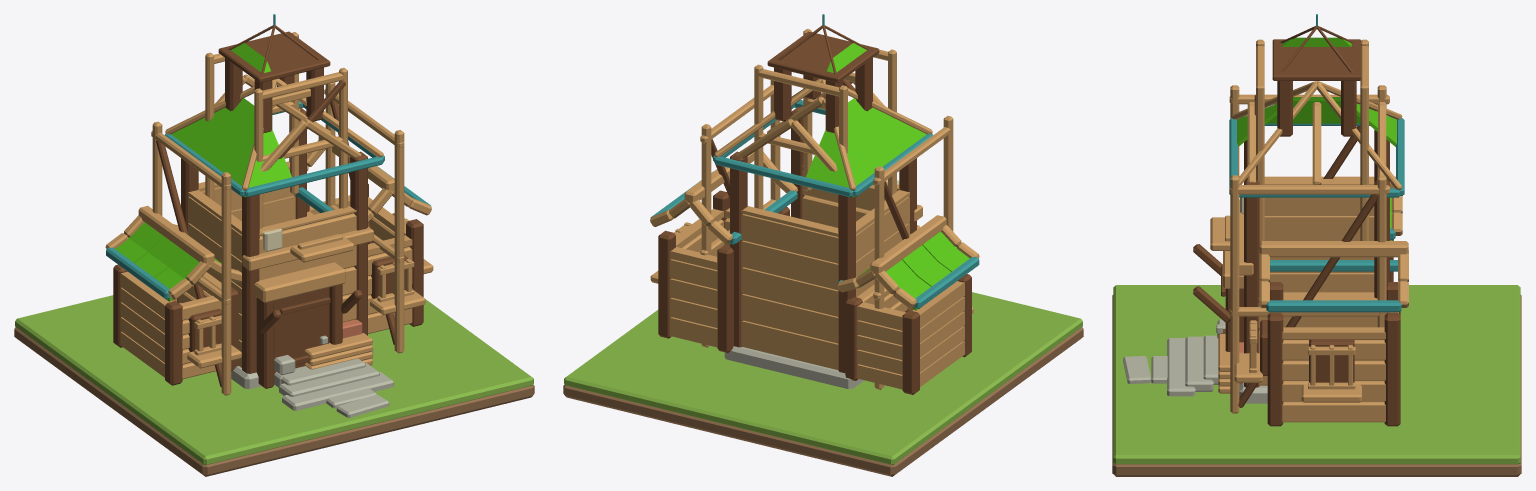
Rendered from town_hall_l05_construction_LOD0.glb.
3 renders of one model, left to right at view 1: azimuth 30°, elevation 25°; view 2: azimuth 150°, elevation 25°; view 3: azimuth 270°, elevation 25°, orthographic. The views are drawn at different scales.
Parts seen in each view (by area): view 1: town_hall_l05_construction_grass_tile, town_hall_l05_construction_earth_tile, town_hall_l05_construction_door_recess, town_hall_l05_construction_central_spire_cornice, town_hall_l05_construction_corner_reinforcement, town_hall_l05_construction_scaffold_post, town_hall_l05_construction_hip_roof_shingle.011, town_hall_l05_construction_scaffold_post.002, town_hall_l05_construction_door_lintel, town_hall_l05_construction_corner_reinforcement.002, town_hall_l05_construction_corner_reinforcement.004, town_hall_l05_construction_wall_siding.016 (+52 smaller); view 2: town_hall_l05_construction_grass_tile, town_hall_l05_construction_earth_tile, town_hall_l05_construction_central_spire_cornice, town_hall_l05_construction_wall_siding.017, town_hall_l05_construction_wall_siding.005, town_hall_l05_construction_wall_siding.009, town_hall_l05_construction_wall_siding.001, town_hall_l05_construction_wall_siding.013, town_hall_l05_construction_hip_roof_shingle.011, town_hall_l05_construction_corner_reinforcement.001, town_hall_l05_construction_foundation, town_hall_l05_construction_corner_reinforcement.003 (+52 smaller); view 3: town_hall_l05_construction_grass_tile, town_hall_l05_construction_earth_tile, town_hall_l05_construction_central_spire_cornice, town_hall_l05_construction_ridge_cap.005, town_hall_l05_construction_wall_siding.014, town_hall_l05_construction_scaffold_post.002, town_hall_l05_construction_annex_wall.023, town_hall_l05_construction_corner_reinforcement.002, town_hall_l05_construction_wall_siding.018, town_hall_l05_construction_corner_reinforcement.010, town_hall_l05_construction_corner_reinforcement.011, town_hall_l05_construction_wall_siding.006 (+44 smaller).
Part boxes in pixels (x1=…): town_hall_l05_construction_grass_tile: x1=15, y1=295, x2=533, y2=464; town_hall_l05_construction_earth_tile: x1=14, y1=327, x2=534, y2=476; town_hall_l05_construction_door_recess: x1=274, y1=287, x2=329, y2=373; town_hall_l05_construction_central_spire_cornice: x1=218, y1=31, x2=330, y2=82; town_hall_l05_construction_corner_reinforcement: x1=242, y1=194, x2=259, y2=373; town_hall_l05_construction_scaffold_post: x1=221, y1=172, x2=231, y2=395; town_hall_l05_construction_hip_roof_shingle.011: x1=171, y1=119, x2=250, y2=196; town_hall_l05_construction_scaffold_post.002: x1=394, y1=130, x2=404, y2=353; town_hall_l05_construction_door_lintel: x1=254, y1=262, x2=345, y2=302; town_hall_l05_construction_corner_reinforcement.002: x1=350, y1=151, x2=367, y2=335; town_hall_l05_construction_corner_reinforcement.004: x1=165, y1=301, x2=182, y2=385; town_hall_l05_construction_wall_siding.016: x1=259, y1=213, x2=356, y2=253; town_hall_l05_construction_grass_tile: x1=564, y1=292, x2=1082, y2=464; town_hall_l05_construction_earth_tile: x1=563, y1=327, x2=1083, y2=476; town_hall_l05_construction_central_spire_cornice: x1=767, y1=31, x2=879, y2=82; town_hall_l05_construction_wall_siding.017: x1=741, y1=214, x2=838, y2=263; town_hall_l05_construction_wall_siding.005: x1=741, y1=294, x2=838, y2=343; town_hall_l05_construction_wall_siding.009: x1=741, y1=267, x2=838, y2=316; town_hall_l05_construction_wall_siding.001: x1=741, y1=320, x2=838, y2=370; town_hall_l05_construction_wall_siding.013: x1=741, y1=240, x2=838, y2=290; town_hall_l05_construction_hip_roof_shingle.011: x1=847, y1=119, x2=926, y2=196; town_hall_l05_construction_corner_reinforcement.001: x1=838, y1=194, x2=855, y2=372; town_hall_l05_construction_foundation: x1=724, y1=346, x2=863, y2=389; town_hall_l05_construction_corner_reinforcement.003: x1=730, y1=151, x2=747, y2=347; town_hall_l05_construction_grass_tile: x1=1113, y1=285, x2=1520, y2=464; town_hall_l05_construction_earth_tile: x1=1112, y1=295, x2=1521, y2=476; town_hall_l05_construction_central_spire_cornice: x1=1272, y1=39, x2=1361, y2=80; town_hall_l05_construction_ridge_cap.005: x1=1259, y1=241, x2=1408, y2=257; town_hall_l05_construction_wall_siding.014: x1=1264, y1=216, x2=1374, y2=240; town_hall_l05_construction_scaffold_post.002: x1=1230, y1=175, x2=1239, y2=413; town_hall_l05_construction_annex_wall.023: x1=1282, y1=401, x2=1385, y2=422; town_hall_l05_construction_corner_reinforcement.002: x1=1244, y1=180, x2=1259, y2=387; town_hall_l05_construction_wall_siding.018: x1=1264, y1=197, x2=1374, y2=215; town_hall_l05_construction_corner_reinforcement.010: x1=1267, y1=312, x2=1283, y2=426; town_hall_l05_construction_corner_reinforcement.011: x1=1384, y1=312, x2=1400, y2=426; town_hall_l05_construction_wall_siding.006: x1=1270, y1=273, x2=1374, y2=292.
Bounding box in the file's own units: 3.6 × 3.67 × 3.6.
